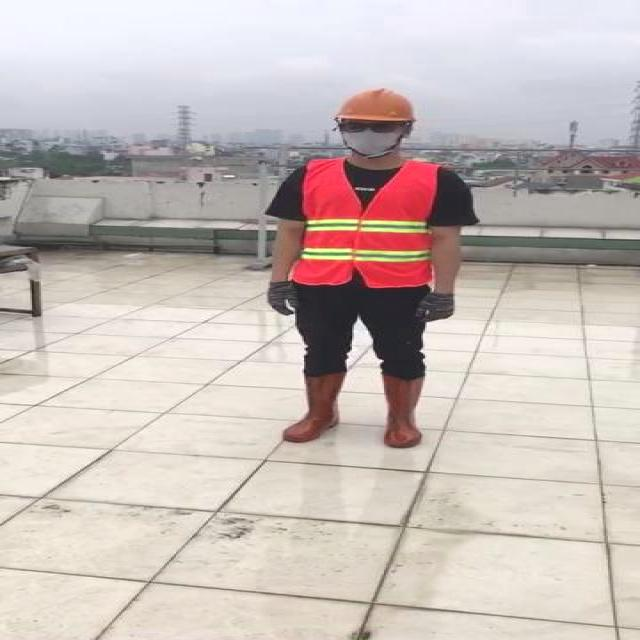boots: (277, 372, 347, 443), (377, 374, 430, 450)
face_mask: (336, 118, 409, 154)
glasses: (338, 116, 407, 136)
hand_glove: (265, 279, 300, 314), (414, 295, 455, 324)
head_helmet: (334, 86, 421, 125)
person: (247, 84, 480, 451)
vest: (293, 159, 443, 286)
